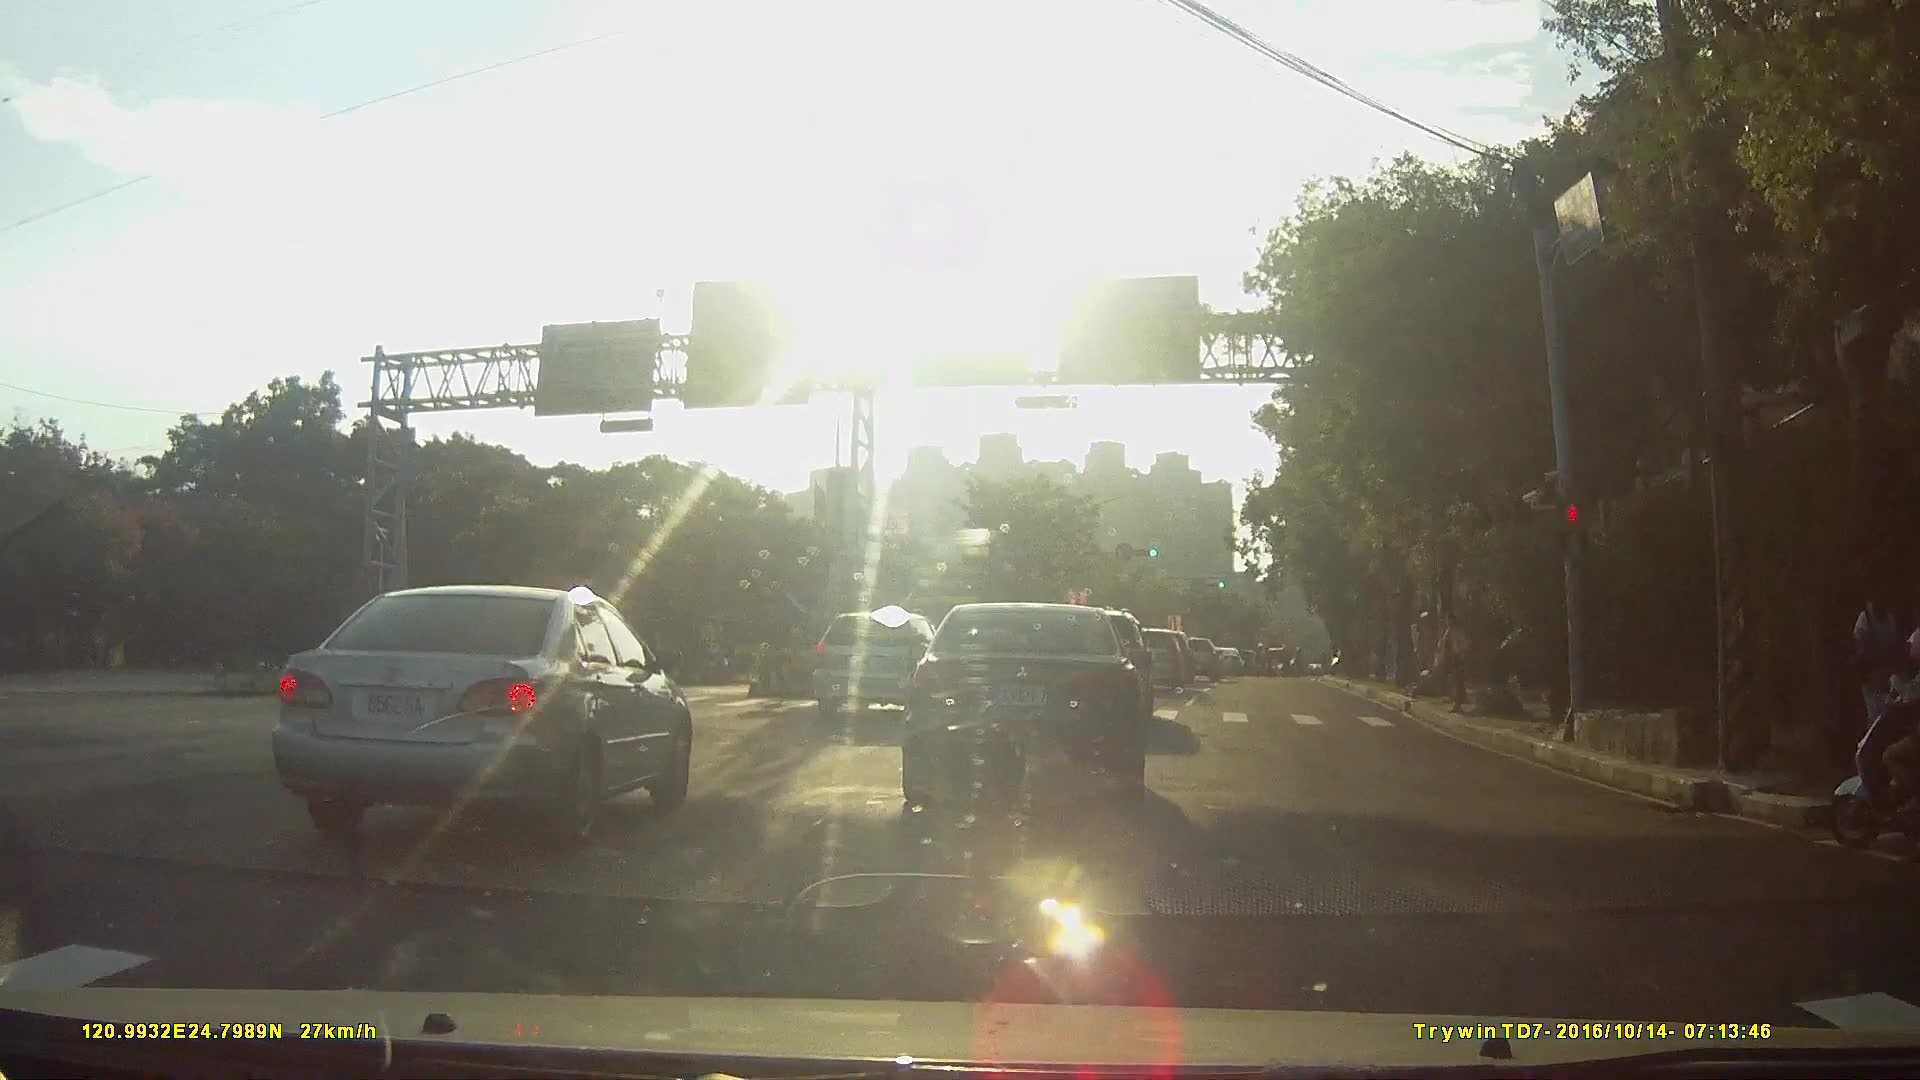pedestrian: (1849, 577, 1914, 756), (1424, 602, 1468, 714)
rider: (1827, 617, 1920, 847)
vehicle: (269, 583, 695, 854), (901, 596, 1154, 801), (810, 610, 951, 720), (1111, 630, 1185, 697), (1172, 636, 1220, 683), (1207, 649, 1244, 677)
